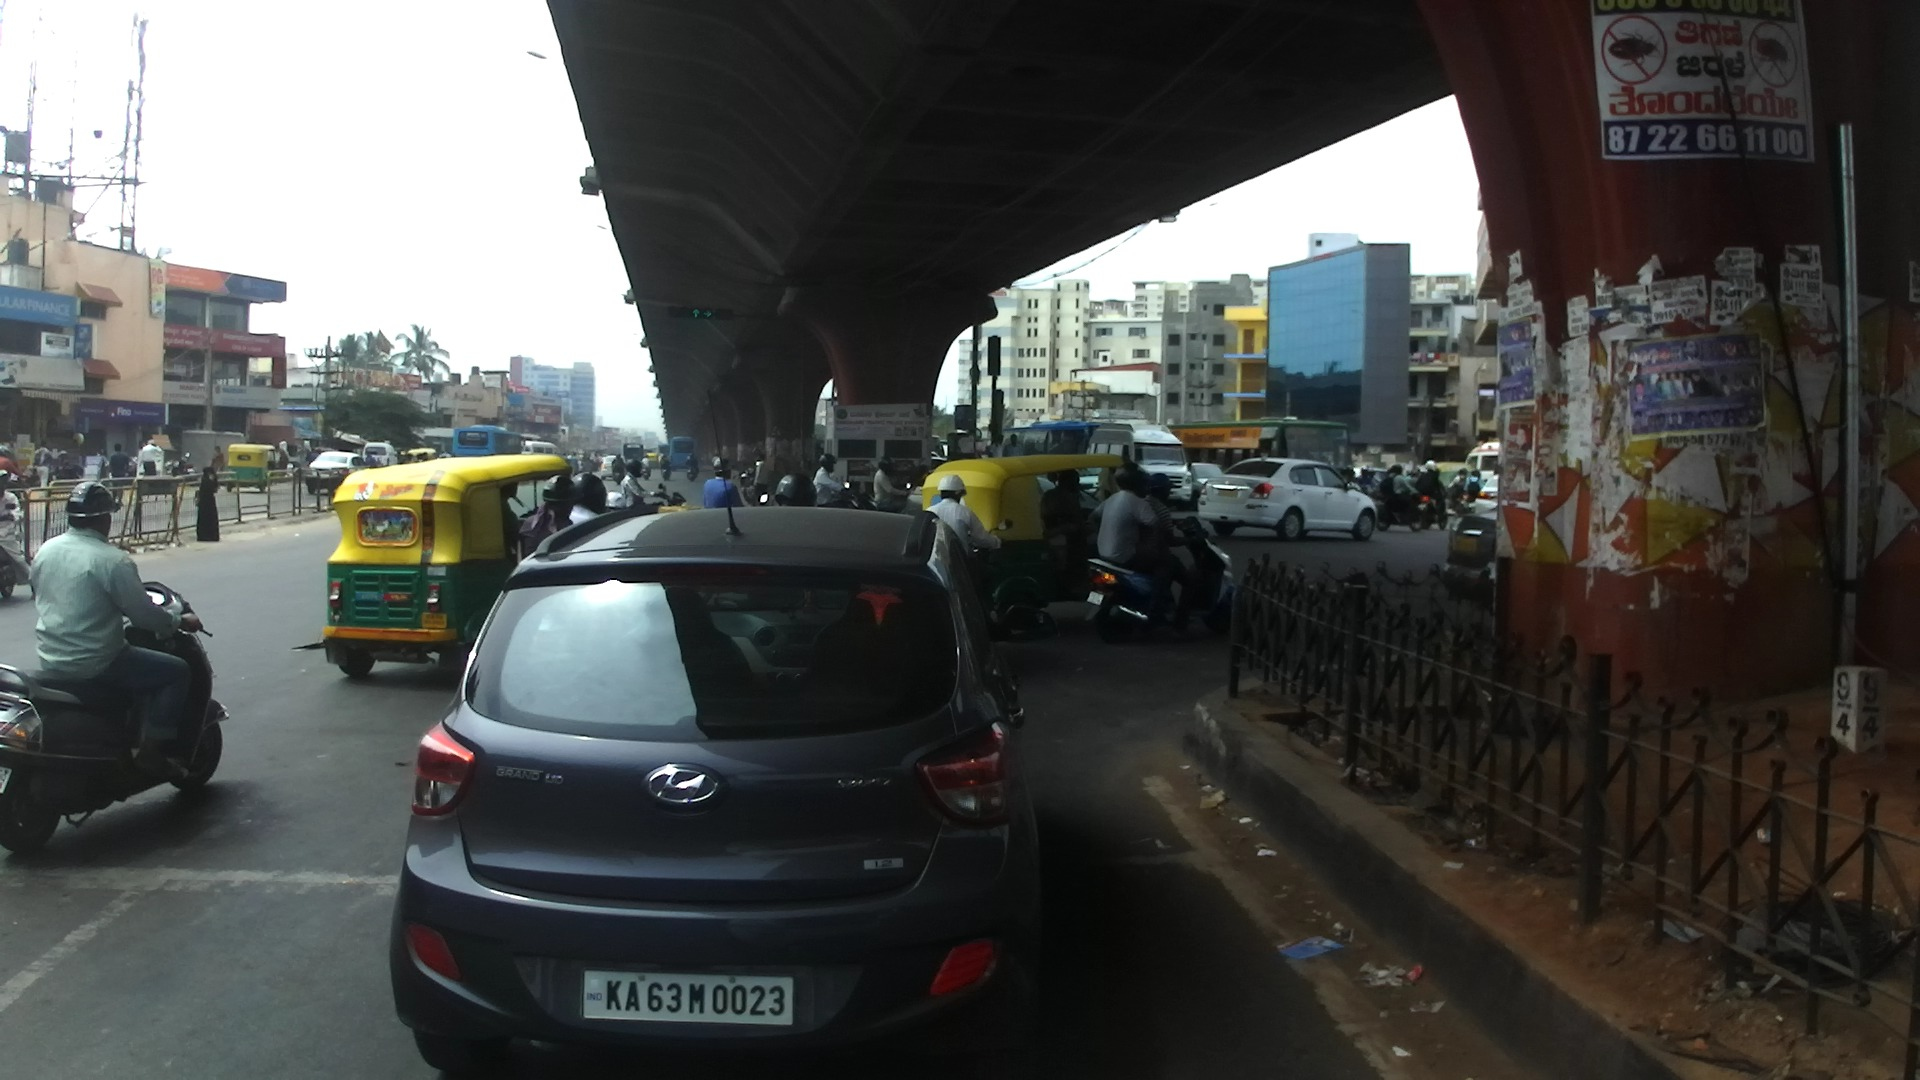autorickshaw: (323, 454, 574, 679), (921, 453, 1134, 607), (228, 442, 277, 495), (404, 449, 439, 465), (644, 453, 661, 468)
bus: (1165, 417, 1357, 486), (1086, 420, 1193, 511), (1000, 418, 1097, 458), (453, 423, 523, 458), (1465, 443, 1500, 495), (668, 435, 697, 471), (522, 440, 562, 458), (623, 442, 644, 463), (522, 433, 541, 444), (657, 443, 671, 458)
car: (386, 387, 1052, 1079), (1197, 456, 1379, 541), (307, 450, 365, 497), (1190, 461, 1223, 507), (1473, 474, 1500, 520), (1354, 468, 1395, 496), (363, 443, 399, 466), (600, 456, 619, 483), (932, 456, 948, 471)
motorcycle: (1, 580, 229, 854), (1087, 515, 1236, 643), (968, 518, 1014, 619), (1, 498, 20, 602), (1374, 494, 1423, 533), (863, 481, 915, 512), (633, 483, 687, 509), (26, 460, 83, 484), (736, 468, 769, 506), (1417, 493, 1450, 529), (819, 482, 863, 509), (171, 452, 199, 483), (1450, 492, 1470, 516), (124, 454, 139, 482), (685, 466, 699, 481), (612, 468, 626, 484), (661, 468, 672, 481), (590, 461, 601, 474), (641, 467, 651, 479), (582, 462, 591, 472)
person: (195, 463, 219, 541), (110, 444, 136, 508), (33, 441, 55, 487), (140, 439, 163, 480), (753, 453, 767, 506), (1004, 432, 1024, 460), (93, 446, 108, 480), (988, 433, 1004, 462), (211, 445, 224, 476), (136, 441, 147, 468), (277, 449, 290, 467)
rider: (28, 484, 204, 783), (1092, 461, 1178, 618), (1149, 468, 1209, 644), (924, 473, 1000, 581), (515, 472, 579, 565), (1, 472, 38, 600), (1380, 462, 1417, 527), (700, 458, 744, 512), (811, 454, 846, 511), (569, 472, 605, 528), (874, 456, 907, 514), (620, 460, 655, 509), (773, 472, 818, 510), (1418, 460, 1444, 519), (1, 443, 26, 486), (1464, 470, 1484, 499), (1451, 468, 1467, 501), (603, 492, 627, 512), (1406, 468, 1422, 491), (1357, 468, 1370, 493), (611, 453, 627, 473), (683, 452, 698, 473), (1367, 468, 1380, 493), (569, 453, 580, 476), (1345, 464, 1357, 486), (659, 454, 671, 471), (640, 453, 650, 471), (1435, 467, 1441, 491), (580, 453, 589, 467), (413, 454, 422, 464), (402, 453, 412, 463), (591, 453, 598, 464), (422, 454, 429, 463), (560, 452, 567, 460)
traffic light: (663, 302, 735, 323)
truck: (244, 410, 304, 472), (180, 428, 248, 475)
vehicle fallback: (1443, 507, 1504, 610), (83, 456, 102, 483), (931, 432, 941, 459), (940, 438, 951, 459), (644, 446, 657, 457)
